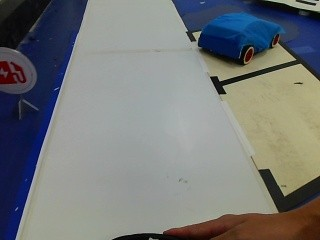battery: (0, 46, 31, 99)
car: (197, 12, 280, 65)
